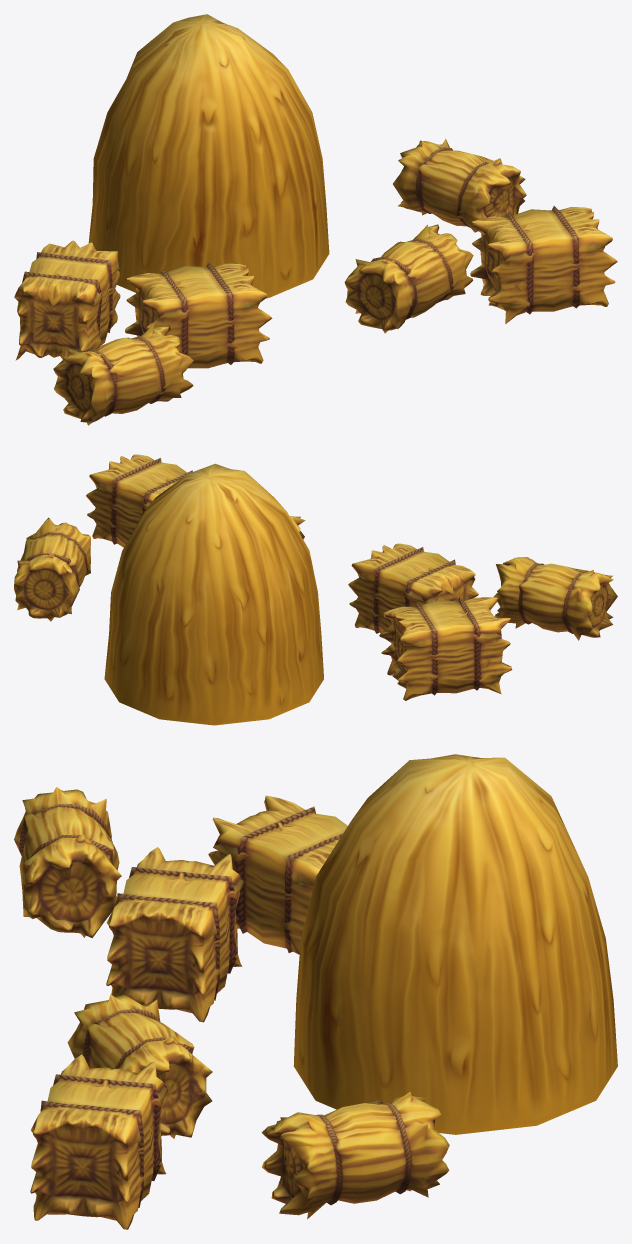
3 views of the same model, one above another, from view 1: azimuth 30°, elevation 25°; view 2: azimuth 150°, elevation 25°; view 3: azimuth 270°, elevation 25° (orthographic). The views are drawn at different scales.
Visible parts, largest first — view 1: HayCock_Straw, Cube_Straw03, Cube_Straw01, Cube_Straw02, HayRoll_Straw02, HayRoll_Straw01, HayRoll_Straw03; view 2: HayCock_Straw, Cube_Straw02, HayRoll_Straw02, Cube_Straw01, HayRoll_Straw03, Cube_Straw03; view 3: HayCock_Straw, Cube_Straw03, Cube_Straw01, HayRoll_Straw03, HayRoll_Straw02, Cube_Straw02, HayRoll_Straw01.
Part boxes in pixels (x1=…): HayCock_Straw: x1=88, y1=14, x2=329, y2=298; Cube_Straw03: x1=470, y1=206, x2=617, y2=323; Cube_Straw01: x1=125, y1=262, x2=272, y2=368; Cube_Straw02: x1=14, y1=240, x2=120, y2=360; HayRoll_Straw02: x1=53, y1=324, x2=193, y2=425; HayRoll_Straw01: x1=344, y1=224, x2=473, y2=333; HayRoll_Straw03: x1=393, y1=138, x2=526, y2=232; HayCock_Straw: x1=104, y1=463, x2=323, y2=725; Cube_Straw02: x1=379, y1=597, x2=512, y2=700; HayRoll_Straw02: x1=493, y1=557, x2=617, y2=640; Cube_Straw01: x1=348, y1=543, x2=478, y2=633; HayRoll_Straw03: x1=14, y1=517, x2=90, y2=621; Cube_Straw03: x1=86, y1=454, x2=192, y2=547; HayCock_Straw: x1=293, y1=754, x2=617, y2=1134; Cube_Straw03: x1=30, y1=1054, x2=168, y2=1229; Cube_Straw01: x1=106, y1=847, x2=244, y2=1022; HayRoll_Straw03: x1=261, y1=1092, x2=449, y2=1219; HayRoll_Straw02: x1=14, y1=787, x2=121, y2=938; Cube_Straw02: x1=208, y1=795, x2=347, y2=954; HayRoll_Straw01: x1=67, y1=994, x2=212, y2=1138.
Size of the model in its own units: 2.52 by 0.9943 by 1.78.
1 material, 1 textured.
